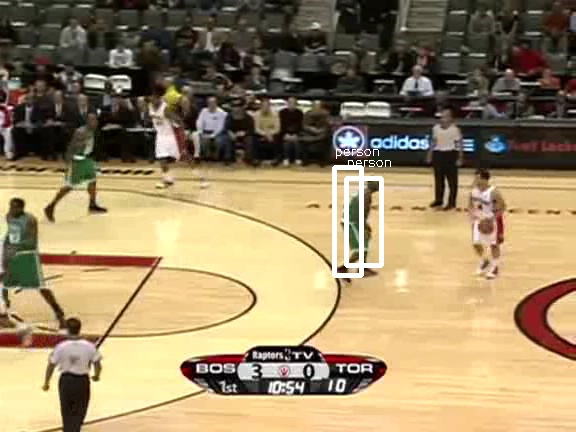person: (338, 181, 372, 262), (337, 181, 371, 262), (339, 181, 373, 262), (338, 180, 372, 261), (338, 182, 372, 263)
target_negative: (156, 342, 513, 404), (454, 178, 566, 315), (400, 319, 514, 428), (160, 410, 470, 424), (87, 346, 96, 396), (513, 328, 514, 334)
